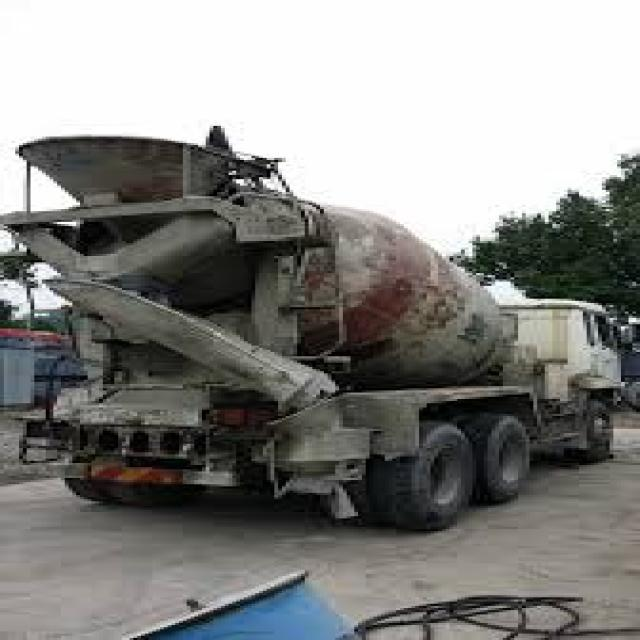Mixer Truck: (5, 123, 626, 530)
